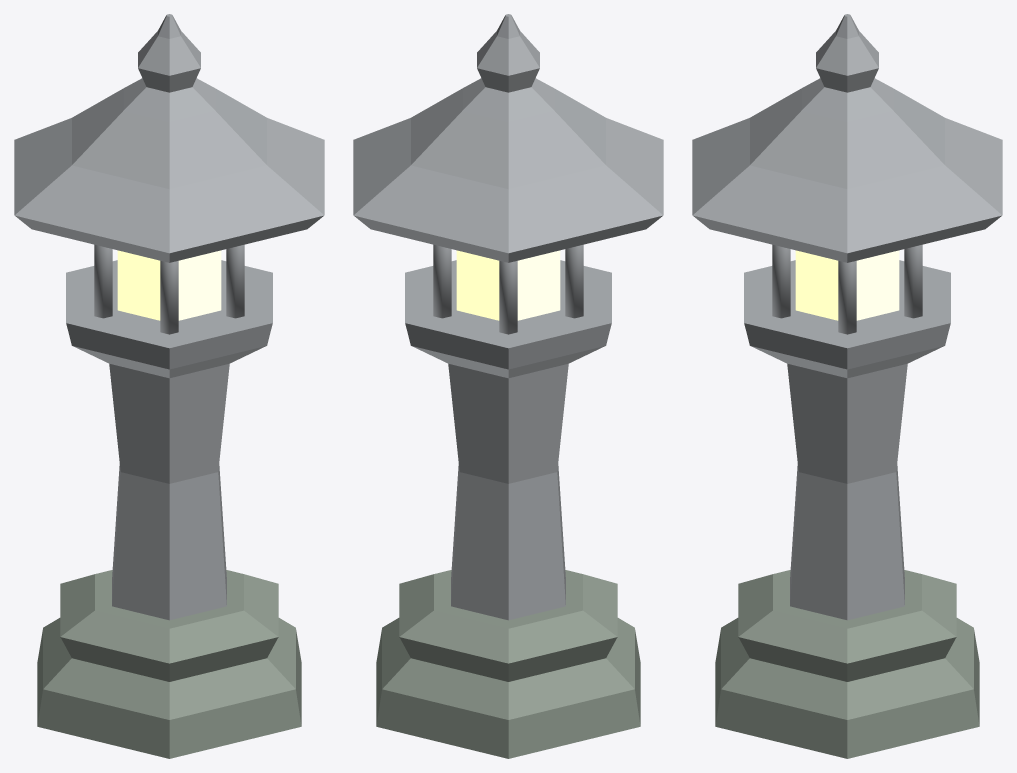
Rendered from StoneLantern.glb.
3 views of the same model, side by side, from view 1: azimuth 30°, elevation 25°; view 2: azimuth 150°, elevation 25°; view 3: azimuth 270°, elevation 25° (orthographic).
Visible parts, largest first — view 1: PagodaRoof, Shaft, Pedestal, LightCore, Mullion_4, Mullion_3, Mullion_5; view 2: PagodaRoof, Shaft, Pedestal, LightCore, Mullion_2, Mullion_1, Mullion_3; view 3: PagodaRoof, Shaft, Pedestal, LightCore, Mullion_0, Mullion_1, Mullion_5.
Part boxes in pixels (x1,y1,x2,y2): PagodaRoof: [14, 14, 324, 262]; Shaft: [66, 260, 272, 620]; Pedestal: [37, 570, 301, 758]; LightCore: [117, 250, 221, 320]; Mullion_4: [160, 261, 178, 334]; Mullion_3: [94, 244, 112, 318]; Mullion_5: [226, 244, 244, 318]; PagodaRoof: [353, 14, 663, 262]; Shaft: [405, 260, 611, 620]; Pedestal: [376, 570, 640, 758]; LightCore: [456, 250, 560, 320]; Mullion_2: [499, 261, 517, 334]; Mullion_1: [433, 244, 451, 318]; Mullion_3: [565, 244, 583, 318]; PagodaRoof: [692, 14, 1002, 262]; Shaft: [744, 260, 950, 620]; Pedestal: [715, 570, 979, 758]; LightCore: [795, 250, 899, 320]; Mullion_0: [838, 261, 856, 334]; Mullion_1: [904, 244, 922, 318]; Mullion_5: [772, 244, 790, 318].
Size of the model in its own units: 1.08 by 2.26 by 0.9353.
